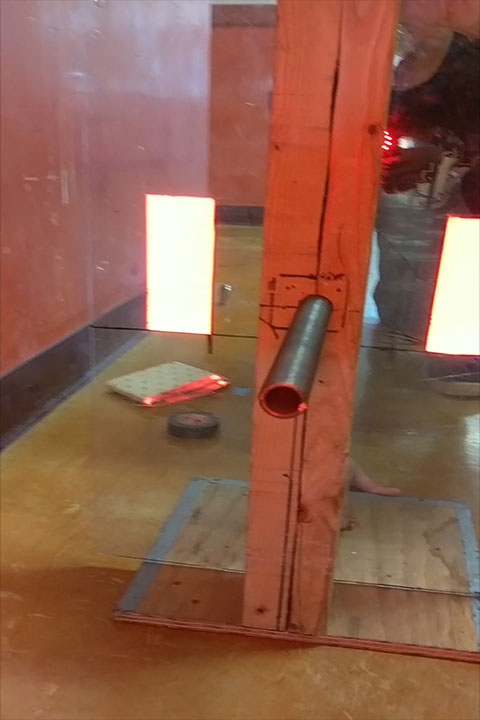gear: (144, 194, 214, 336), (425, 214, 480, 357)
